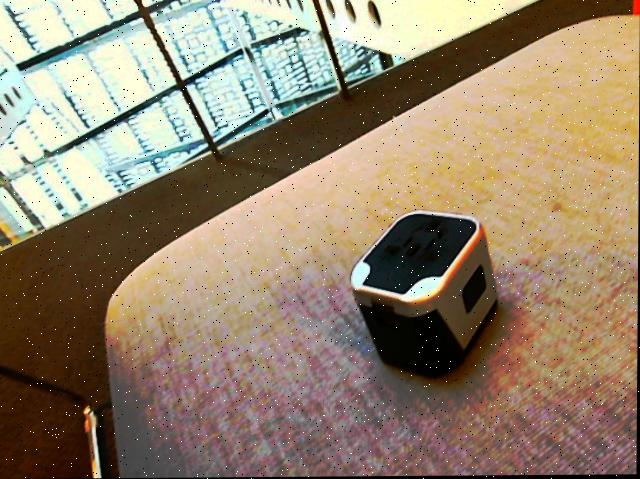adapter: (349, 208, 498, 379)
